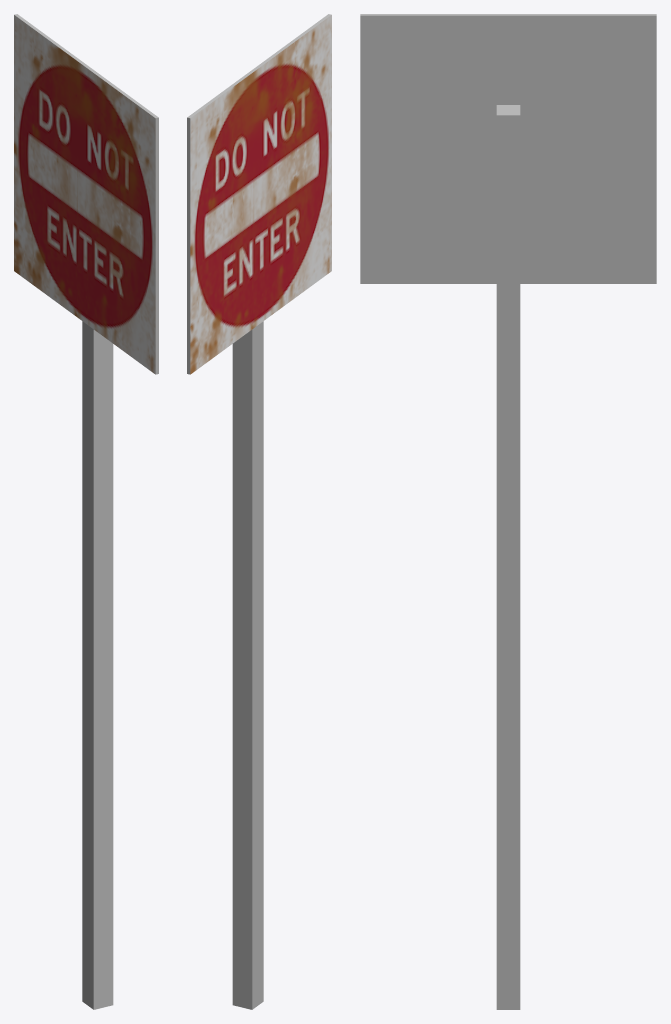
Rendered from trafficSign_square.fbx.
3 renders of one model, left to right at view 1: azimuth 30°, elevation 25°; view 2: azimuth 150°, elevation 25°; view 3: azimuth 270°, elevation 25°, orthographic. The views are drawn at different scales.
Parts seen in each view (by area): view 1: trafficSign_square; view 2: trafficSign_square; view 3: trafficSign_square.
Boxes of the visible parts, <box> form: trafficSign_square: <box>14,14,158,1009</box>; trafficSign_square: <box>187,14,331,1009</box>; trafficSign_square: <box>360,14,656,1009</box>.
Size of the model in its own units: 7.02 by 275 by 75.
